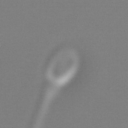normal: (29, 83, 56, 128)
